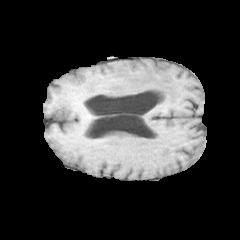glioma: (56, 65, 184, 114)
